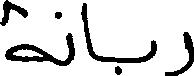X: (0, 0, 45, 66), (165, 27, 193, 75), (81, 0, 93, 63), (66, 28, 74, 70), (151, 35, 156, 62)
